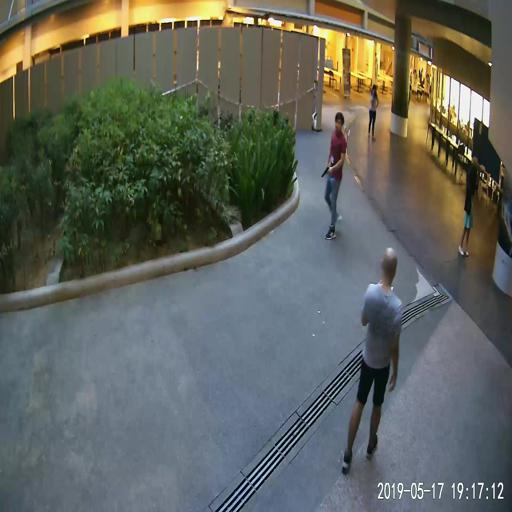pistol: (321, 166, 331, 177)
